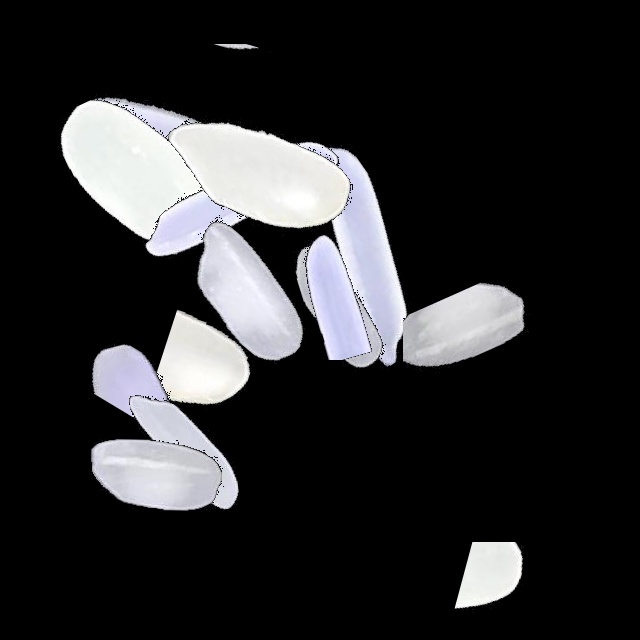Broken: (403, 241, 557, 491), (206, 209, 456, 360), (33, 282, 283, 421), (98, 307, 348, 432), (114, 44, 364, 136), (378, 542, 628, 622)
Full: (239, 126, 489, 376), (214, 182, 464, 432), (60, 325, 310, 575), (32, 348, 282, 598), (46, 18, 296, 268), (15, 48, 265, 298), (114, 73, 364, 323), (137, 43, 387, 293), (122, 171, 372, 421)
